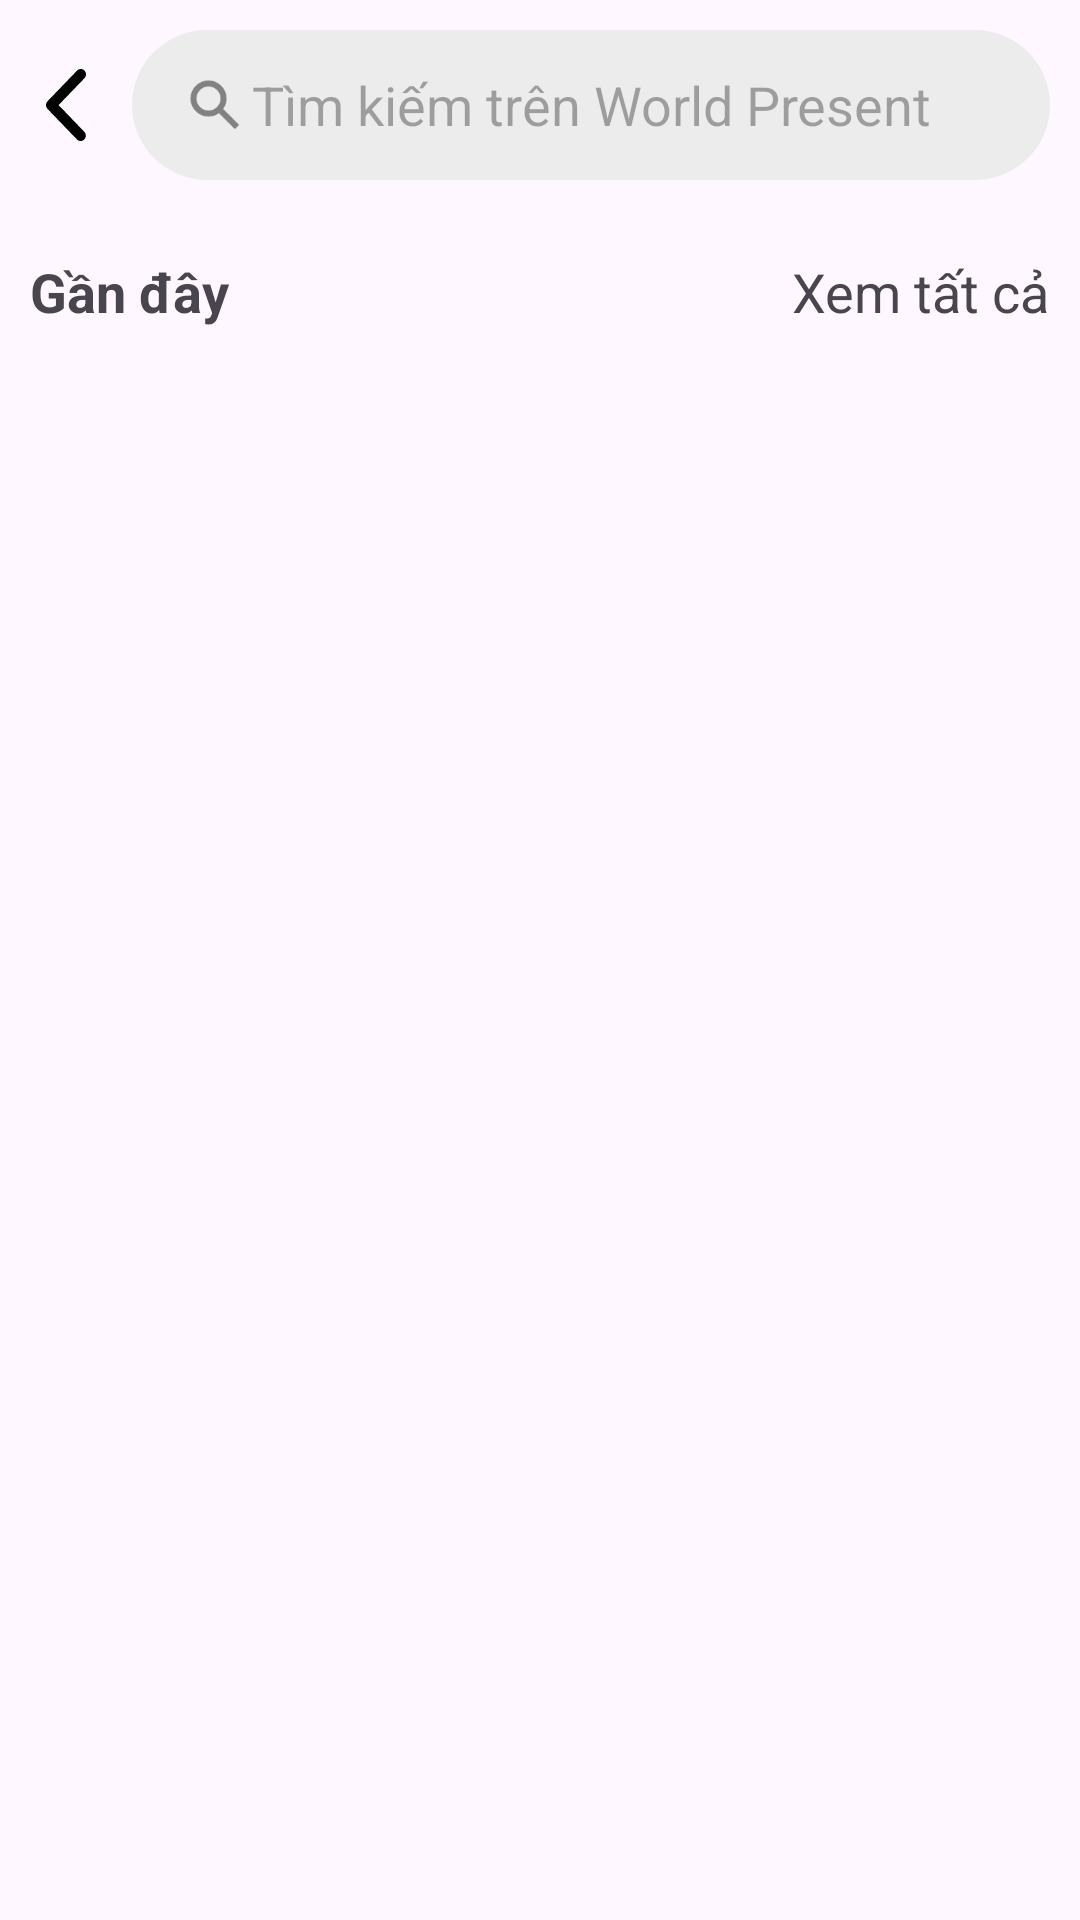

Icon click points for this 1080×1920 phone screenshot, format [x,y]:
back: [66,105]
